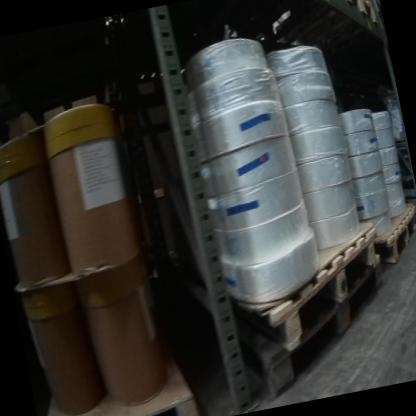pallet: (190, 258, 400, 409), (198, 206, 400, 362), (31, 330, 206, 416), (261, 0, 380, 55), (363, 194, 416, 268)
